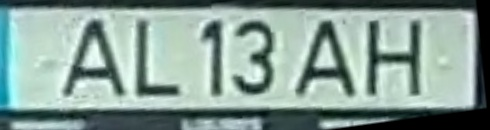1: (195, 15, 226, 101)
3: (227, 15, 279, 99)
A: (55, 14, 131, 101), (289, 16, 361, 101)
H: (362, 17, 424, 98)
L: (132, 16, 184, 101)
